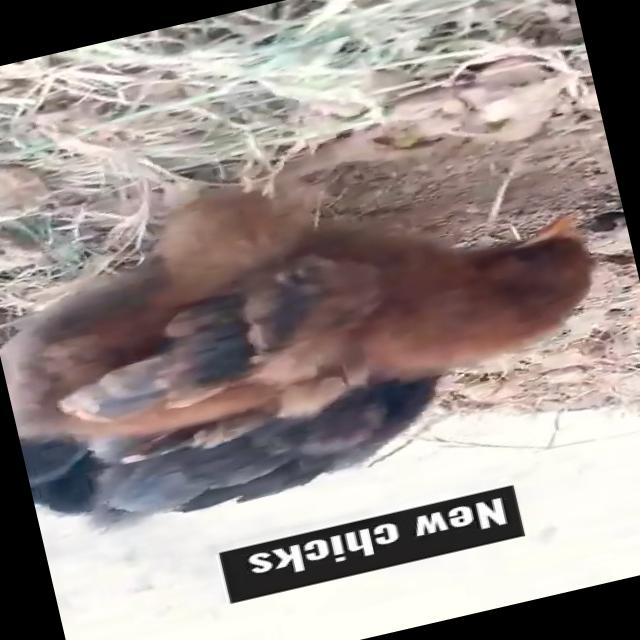stand bath: (0, 87, 639, 483)
